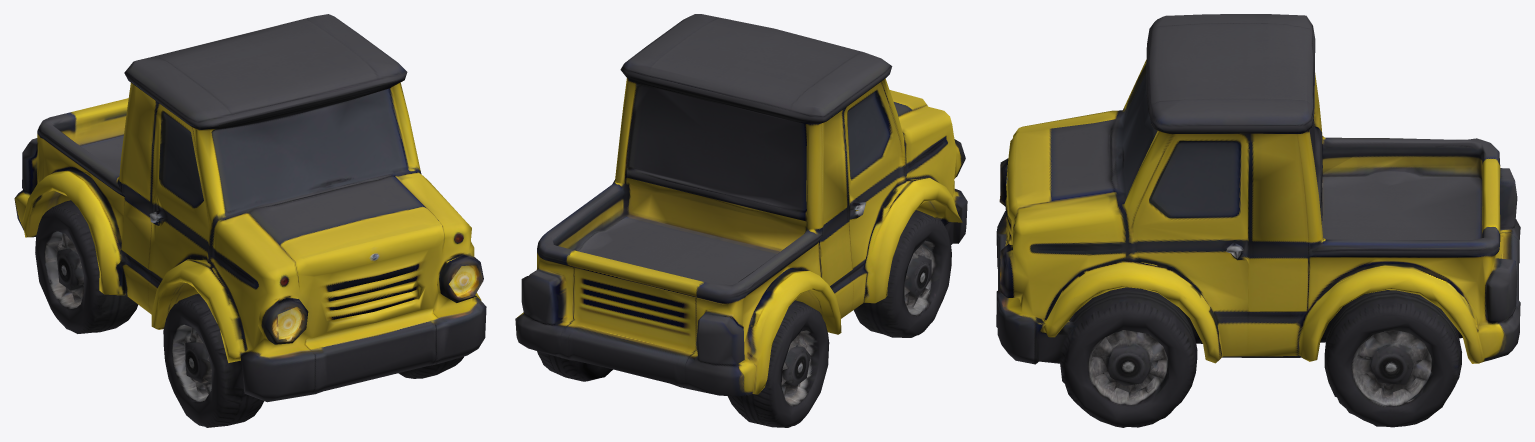
Rendered from truck.glb.
3 renders of one model, left to right at view 1: azimuth 30°, elevation 25°; view 2: azimuth 150°, elevation 25°; view 3: azimuth 270°, elevation 25°, orthographic. The views are drawn at different scales.
Parts seen in each view (by area): view 1: tripo_node_d93082cc-e5ed-4628-b3d4-4a48b49a51c3; view 2: tripo_node_d93082cc-e5ed-4628-b3d4-4a48b49a51c3; view 3: tripo_node_d93082cc-e5ed-4628-b3d4-4a48b49a51c3.
Boxes of the visible parts, left/top/right/bottom form: tripo_node_d93082cc-e5ed-4628-b3d4-4a48b49a51c3: left=14, top=14, right=486, bottom=427; tripo_node_d93082cc-e5ed-4628-b3d4-4a48b49a51c3: left=515, top=14, right=967, bottom=427; tripo_node_d93082cc-e5ed-4628-b3d4-4a48b49a51c3: left=996, top=14, right=1520, bottom=427.
Bounding box in the file's own units: 0.5803 × 0.6507 × 1.
Materials: 1 (1 with a texture image).
